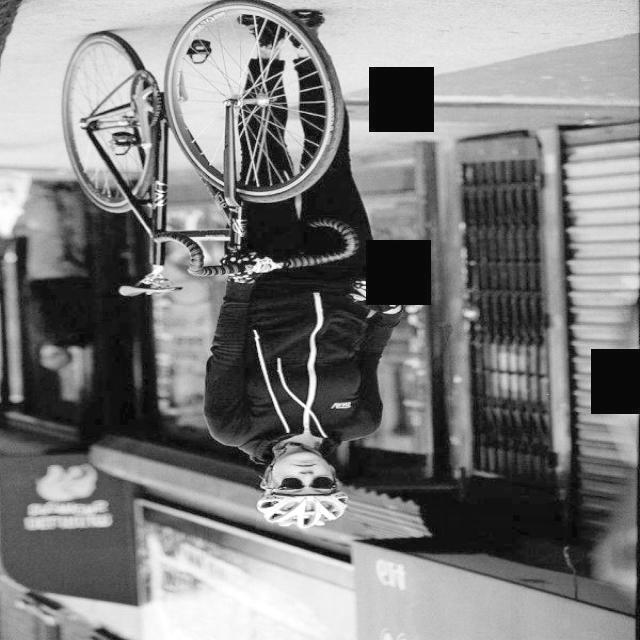helmet: (256, 447, 348, 530)
